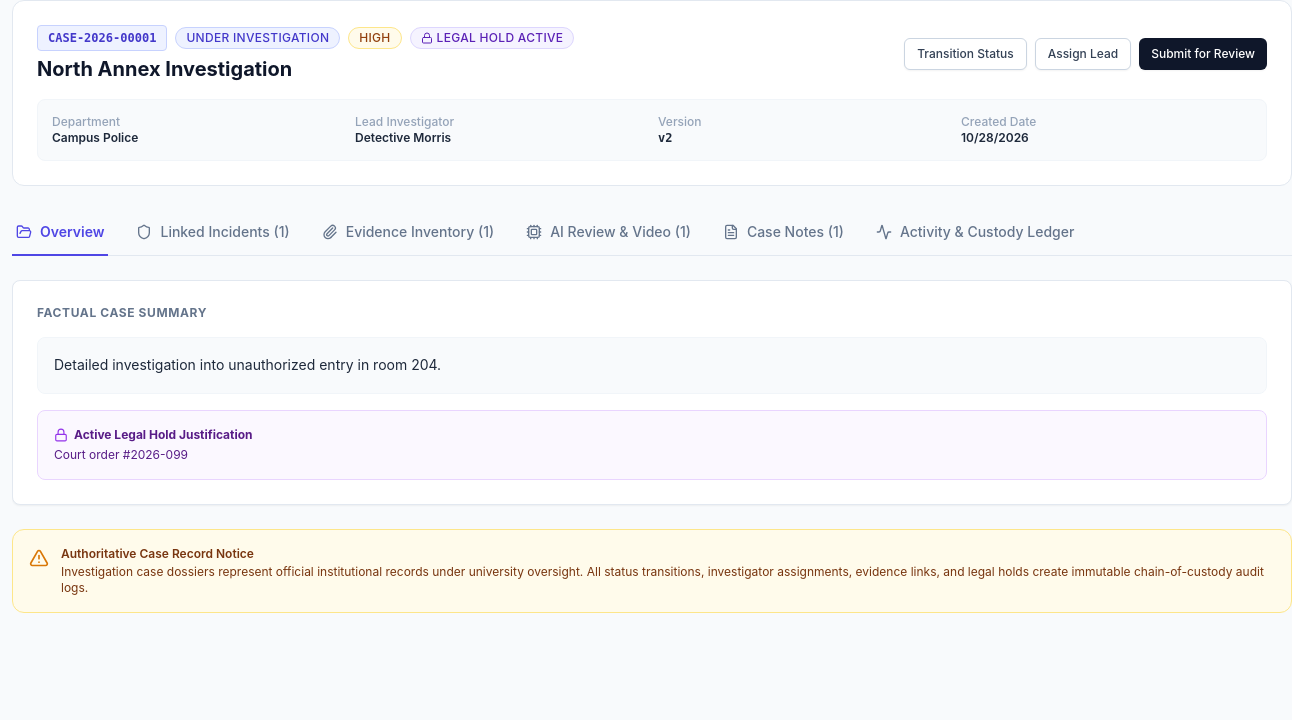
Test: CaseDossierView Component › switches to AI Review & Video tab and displays advisory banner and candidate segments
Expected: the text "CASE-2026-00001" is shown, [37,25,167,51]
Click the button "AI Review & Video (1)".
click(608, 233)  # box [522,210,695,256]
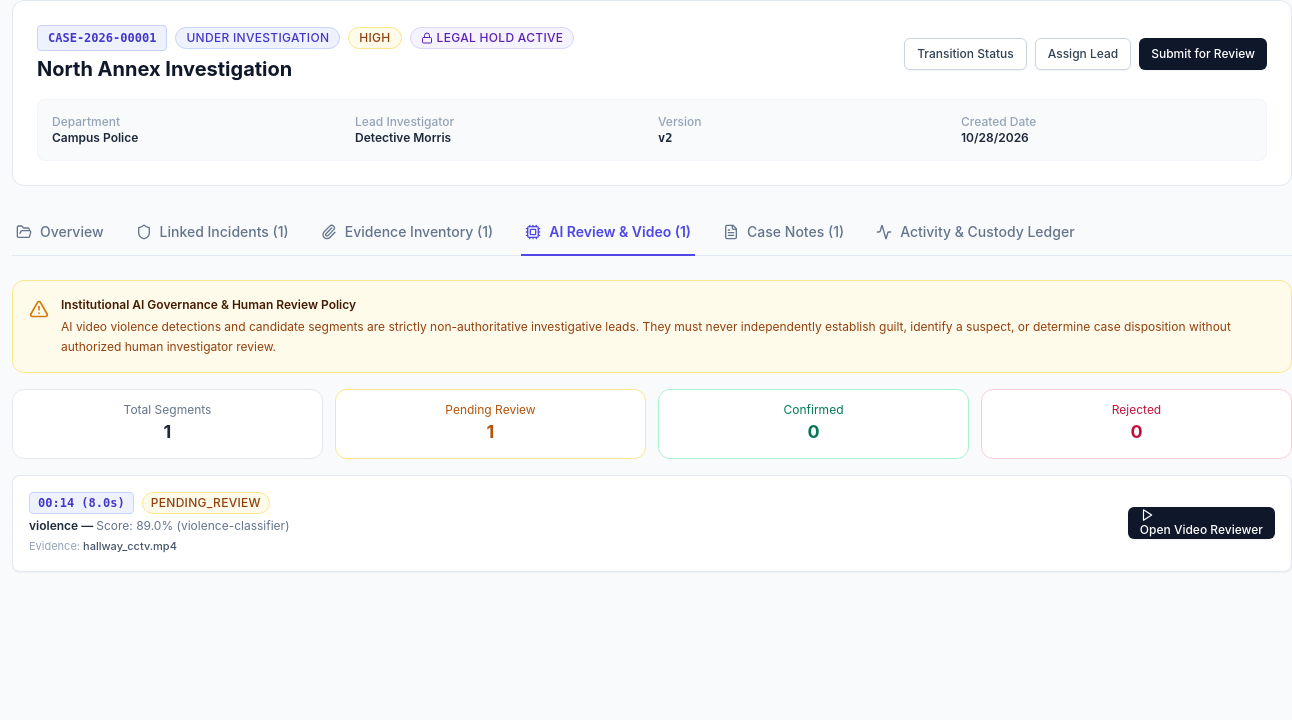
Expected: the heading "Institutional AI Governance & Human Review Policy" is shown, [61,297,356,312]
Expected: the text "violence — Score: 89.0% (violence-classifier)" is shown, [29,518,290,534]
Expected: the text "Score: 89.0% (violence-classifier)" is shown, [96,518,290,533]
